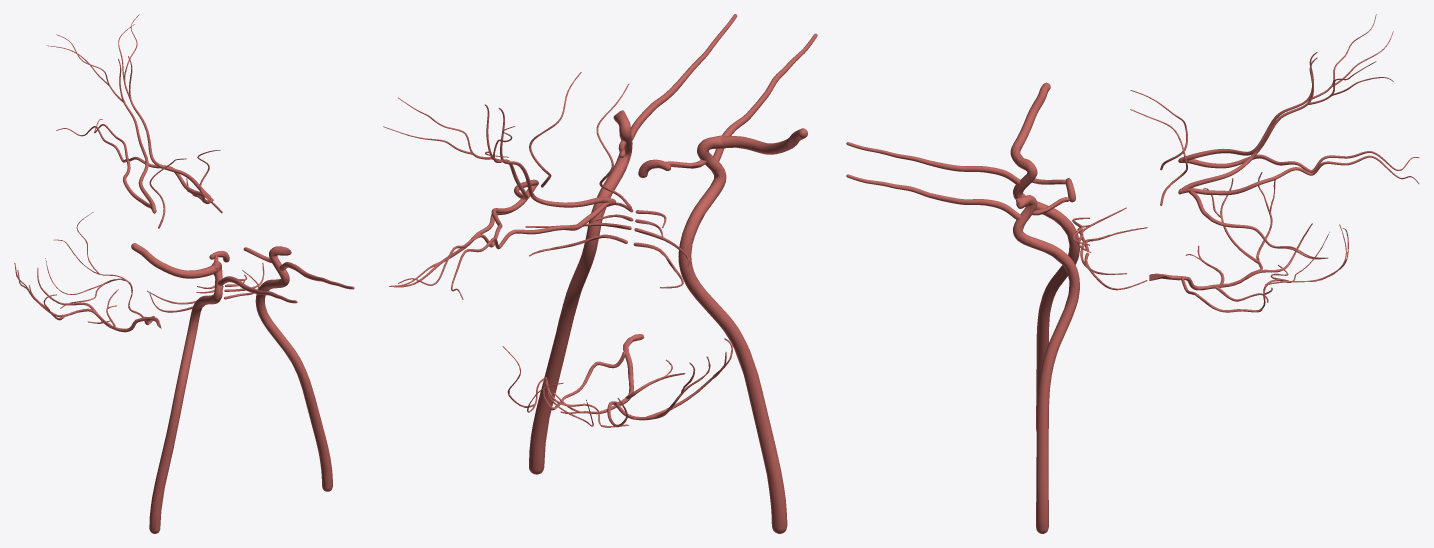
The model's file is thorax-1.glb.
3 views of the same model, side by side, from view 1: azimuth 30°, elevation 25°; view 2: azimuth 150°, elevation 25°; view 3: azimuth 270°, elevation 25° (orthographic). The views are drawn at different scales.
Visible parts, largest first — view 1: FJ1682, FJ1682M, FJ1691M, FJ1692, FJ1691, FJ1715, FJ1687, FJ1687M, FJ1695; view 2: FJ1682, FJ1682M, FJ1692, FJ1695M, FJ1691, FJ1687, FJ1695, FJ1691M, FJ1715, FJ1687M, FJ1711, FJ1684M (+2 smaller); view 3: FJ1682M, FJ1682, FJ1691M, FJ1691, FJ1695M, FJ1695, FJ1687M, FJ1687, FJ1692, FJ1715.
Part boxes in pixels (left/top/right/bottom): FJ1682: left=149, top=261, right=222, bottom=533; FJ1682M: left=255, top=246, right=332, bottom=491; FJ1691M: left=118, top=14, right=209, bottom=195; FJ1692: left=131, top=243, right=217, bottom=278; FJ1691: left=46, top=34, right=155, bottom=209; FJ1715: left=17, top=270, right=161, bottom=332; FJ1687: left=56, top=126, right=156, bottom=213; FJ1687M: left=94, top=119, right=211, bottom=199; FJ1695: left=217, top=276, right=297, bottom=303; FJ1682: left=678, top=135, right=787, bottom=533; FJ1682M: left=529, top=110, right=632, bottom=474; FJ1692: left=719, top=128, right=807, bottom=154; FJ1695M: left=631, top=14, right=737, bottom=140; FJ1691: left=485, top=107, right=613, bottom=207; FJ1687: left=451, top=198, right=616, bottom=299; FJ1695: left=713, top=33, right=817, bottom=161; FJ1691M: left=383, top=97, right=538, bottom=199; FJ1715: left=614, top=334, right=710, bottom=420; FJ1687M: left=398, top=180, right=538, bottom=285; FJ1711: left=543, top=351, right=628, bottom=427; FJ1684M: left=525, top=223, right=631, bottom=256; FJ1682M: left=1013, top=195, right=1079, bottom=533; FJ1682: left=1013, top=157, right=1079, bottom=431; FJ1691M: left=1182, top=57, right=1393, bottom=191; FJ1691: left=1181, top=14, right=1393, bottom=161; FJ1695M: left=846, top=174, right=1020, bottom=219; FJ1695: left=846, top=142, right=1020, bottom=185; FJ1687M: left=1178, top=155, right=1419, bottom=195; FJ1687: left=1178, top=151, right=1419, bottom=172; FJ1692: left=1010, top=82, right=1050, bottom=166; FJ1715: left=1149, top=172, right=1272, bottom=290.
Size of the model in its own units: 0.091 by 0.1505 by 0.1751.
